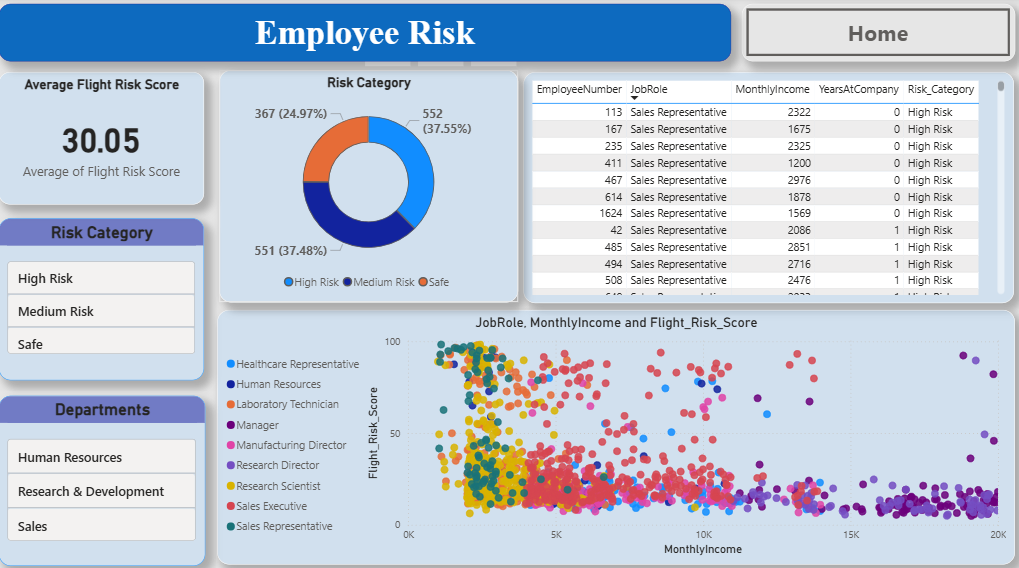

Layout of this report page (visuals, bound fields, positions):
{"tool":"powerbi","page":{"name":"Page 3","canvas":[1280,720],"ordinal":3},"visuals":[{"type":"tableEx","fields":{"Values":["IBM_HR_Final_PowerBI.EmployeeNumber","IBM_HR_Final_PowerBI.JobRole","IBM_HR_Final_PowerBI.MonthlyIncome","IBM_HR_Final_PowerBI.YearsAtCompany","IBM_HR_Final_PowerBI.Risk_Category"]},"box":[660,93.7,611.7,288.3],"z":0},{"type":"scatterChart","fields":{"Y":["IBM_HR_Final_PowerBI.Flight_Risk_Score"],"X":["IBM_HR_Final_PowerBI.MonthlyIncome"],"Series":["IBM_HR_Final_PowerBI.JobRole"]},"box":[276.6,392.2,995.1,317.6],"z":1000},{"type":"cardVisual","title":"Departments","fields":{"Rows":["IBM_HR_Final_PowerBI.Department"]},"box":[5.9,497.6,257.6,212.2],"z":2000},{"type":"cardVisual","title":"Risk Category","fields":{"Rows":["IBM_HR_Final_PowerBI.Risk_Category"]},"box":[5.9,278,256.1,202],"z":3000},{"type":"donutChart","title":"Risk Category","fields":{"Category":["IBM_HR_Final_PowerBI.Risk_Category"],"Y":["CountNonNull(IBM_HR_Final_PowerBI.EmployeeNumber)"]},"box":[279.5,92.2,373,289.5],"z":4000},{"type":"card","title":"Average Flight Risk Score","fields":{"Values":["Avg(IBM_HR_Final_PowerBI.Flight_Risk_Score)"]},"box":[5.9,93.7,256.1,165.4],"z":5000},{"type":"actionButton","box":[930.7,8.8,341,71.7],"z":6000},{"type":"textbox","box":[5.9,8.8,913.2,71.7],"z":7000}]}

Visuals, with their boxes in screenshot pixels (x1, y1, x2, y2), scaled from the page's 1280x720 canvas onto the 1019x568 screenshot:
tableEx - IBM_HR_Final_PowerBI.EmployeeNumber x IBM_HR_Final_PowerBI.JobRole: <box>525,74,1012,301</box>
scatterChart - IBM_HR_Final_PowerBI.Flight_Risk_Score x IBM_HR_Final_PowerBI.MonthlyIncome: <box>220,309,1012,560</box>
"Departments" cardVisual: <box>5,393,210,560</box>
"Risk Category" cardVisual: <box>5,219,209,379</box>
"Risk Category" donutChart: <box>223,73,519,301</box>
"Average Flight Risk Score" card: <box>5,74,209,204</box>
actionButton: <box>741,7,1012,64</box>
textbox: <box>5,7,732,64</box>
